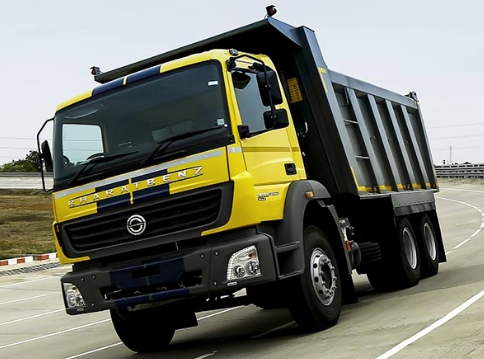truck: (34, 5, 449, 352)
